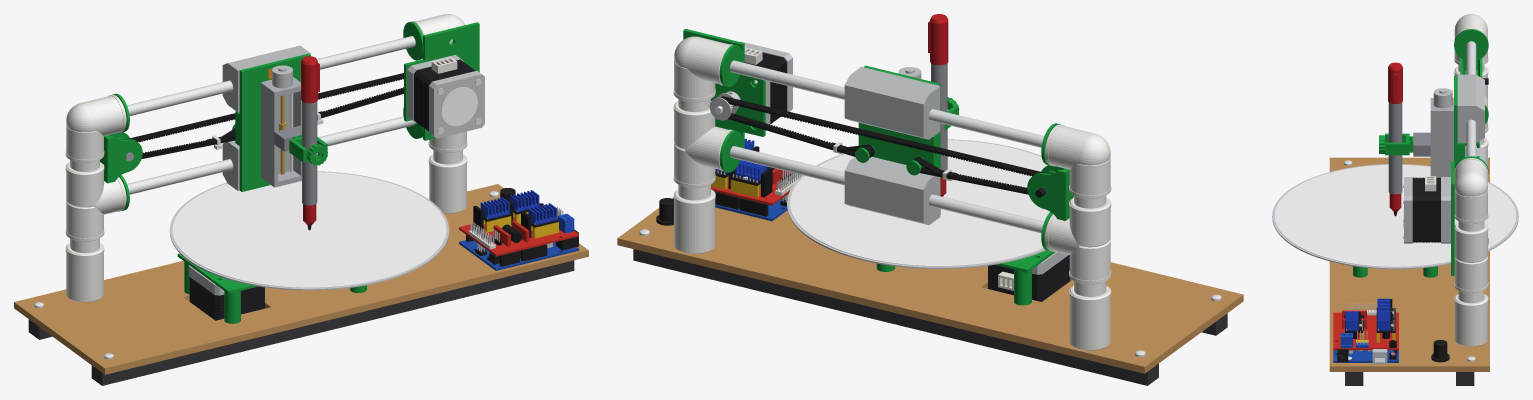
File: plotter.glb
The picture shows the model from 3 angles, left to right: view 1: azimuth 30°, elevation 25°; view 2: azimuth 150°, elevation 25°; view 3: azimuth 270°, elevation 25°; orthographic projection. The views are drawn at different scales.
Visible parts, largest first — view 1: board__wood, paper__sheet, stands, bars, rods, carriage_plate, stage__frame, x_motor__caps, x_belt__belt, x_motor_plate, blocks, platter (+15 smaller); view 2: board__wood, stands, paper__sheet, blocks, bars, rods, x_belt__belt, carriage_plate, x_motor_plate, idler_bracket, spools, y_motor__body (+12 smaller); view 3: paper__sheet, board__wood, stands, blocks, x_motor__body, stage__frame, electronics__shield, x_motor__caps, pen__body, x_motor__core, platter, spools (+18 smaller).
Part boxes in pixels (x1,y1,x2,y2): board__wood: (14,184,588,374); paper__sheet: (172,172,446,287); stands: (65,14,467,302); bars: (28,260,574,385); rods: (127,36,415,194); carriage_plate: (232,53,310,191); stage__frame: (261,77,301,187); x_motor__caps: (407,55,484,138); x_belt__belt: (124,73,403,158); x_motor_plate: (404,22,479,140); blocks: (222,45,310,190); platter: (169,171,449,290); board__wood: (617,197,1243,373); stands: (673,36,1111,350); paper__sheet: (790,140,1049,266); blocks: (844,66,940,225); bars: (633,249,1227,385); rods: (730,60,1044,233); x_belt__belt: (721,96,1048,194); carriage_plate: (855,65,940,214); x_motor_plate: (683,28,765,148); idler_bracket: (1027,165,1073,220); spools: (719,45,1060,251); y_motor__body: (988,255,1069,301); paper__sheet: (1274,165,1516,267); board__wood: (1329,157,1489,371); stands: (1454,14,1488,346); blocks: (1457,74,1484,161); x_motor__body: (1412,177,1440,242); stage__frame: (1430,98,1453,177); electronics__shield: (1333,310,1398,350); x_motor__caps: (1404,177,1450,243); pen__body: (1388,102,1402,194); x_motor__core: (1414,178,1440,241); platter: (1272,164,1518,269); spools: (1454,29,1488,243).
Bounding box in the file's own units: 400 × 196 × 200.
